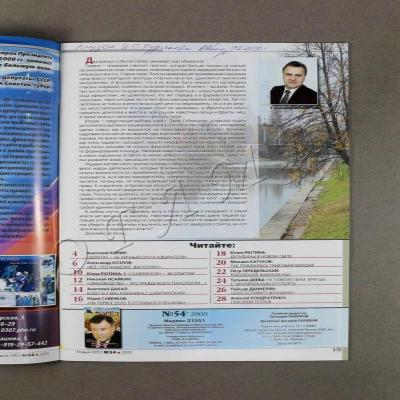rare_books: (0, 36, 348, 361)
